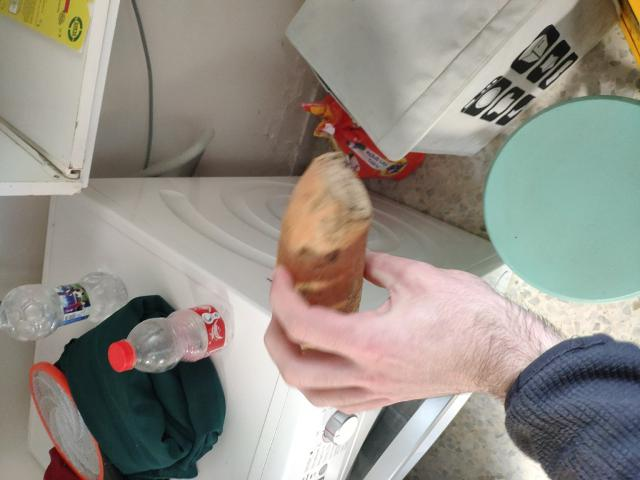sweet_potato: (283, 201, 389, 341)
